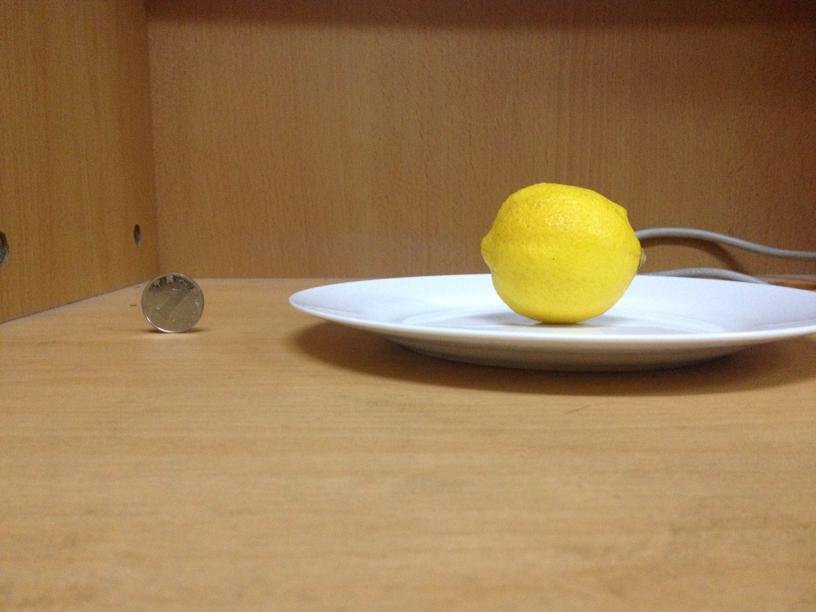coin: (143, 272, 203, 333)
lemon: (481, 181, 642, 323)
